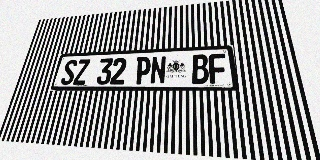2: (110, 57, 127, 85)
3: (96, 58, 113, 85)
B: (192, 54, 209, 84)
F: (208, 53, 228, 84)
N: (150, 56, 166, 84)
P: (134, 56, 151, 84)
S: (60, 59, 78, 85)
Z: (73, 59, 91, 85)
